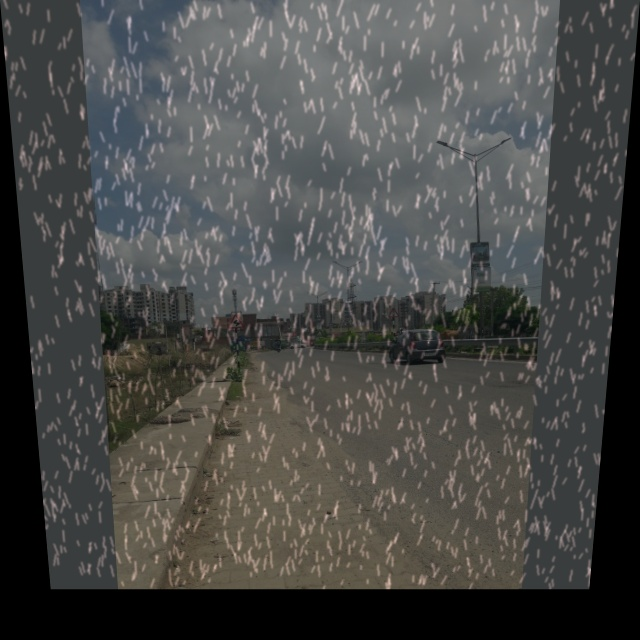Left_Reverse_Bend: (223, 311, 249, 333)
